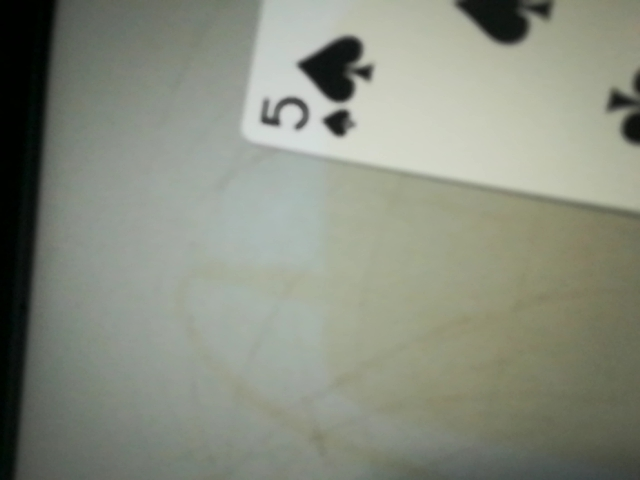ht 5: (239, 65, 383, 155)
